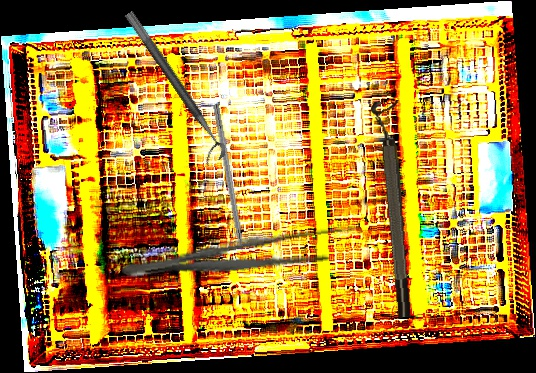Dressing Forceps: (119, 222, 346, 290)
Fixation Ring: (112, 10, 230, 167), (370, 100, 415, 319)
Hook Surgical: (211, 104, 250, 272)
